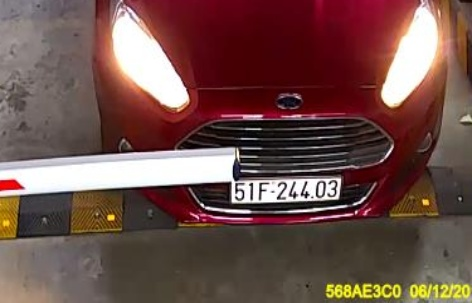plate: (228, 175, 343, 211)
